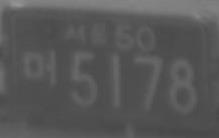0: (135, 22, 158, 55)
1: (101, 52, 128, 109)
5: (69, 50, 100, 109), (112, 21, 136, 52)
7: (131, 55, 163, 109)
8: (165, 56, 200, 117)
머: (21, 47, 59, 90)
서울_O: (63, 21, 111, 49)
